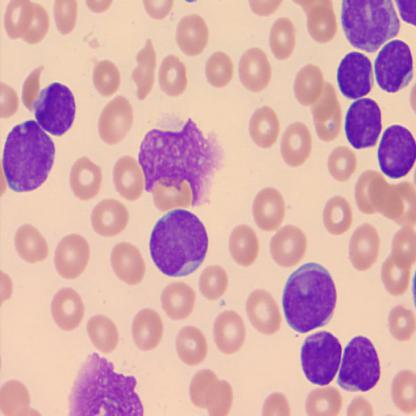Blast: (148, 204, 211, 280), (2, 117, 58, 196), (280, 260, 338, 334), (336, 330, 382, 395), (32, 80, 79, 142), (299, 330, 344, 387), (372, 36, 416, 94), (376, 121, 416, 179), (343, 96, 383, 152), (336, 50, 377, 102)
